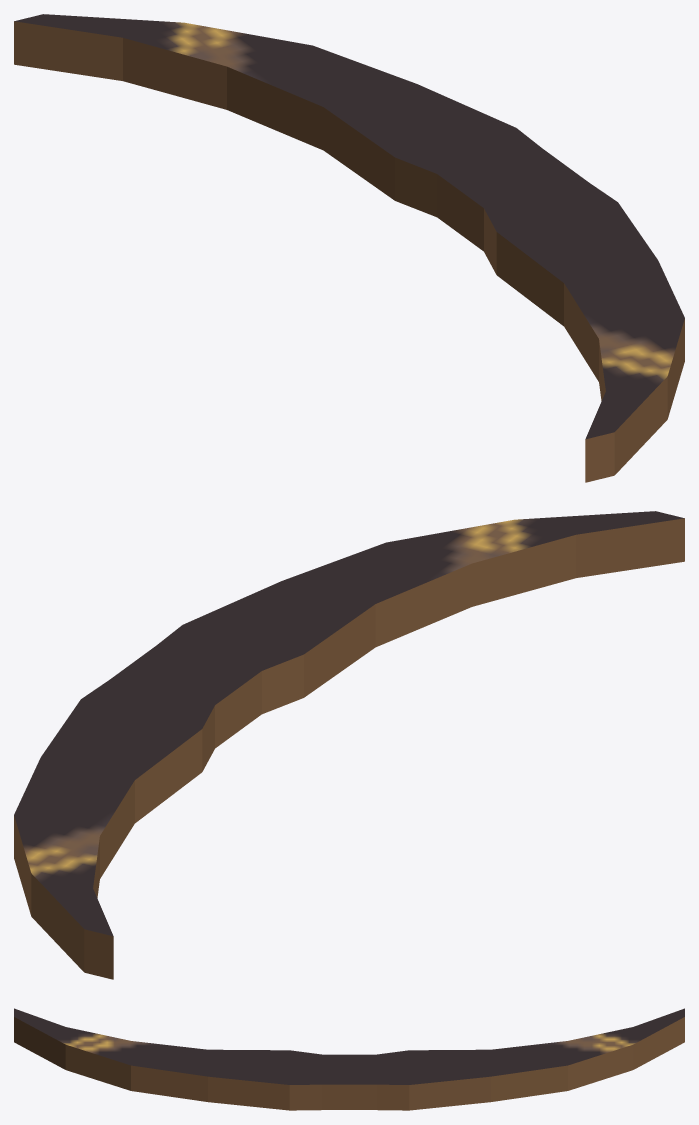
File: pickaxe_head_bench.obj
The picture shows the model from 3 angles, top to bottom: view 1: azimuth 30°, elevation 25°; view 2: azimuth 150°, elevation 25°; view 3: azimuth 270°, elevation 25°; orthographic projection. The views are drawn at different scales.
Visible parts, largest first — view 1: geometry; view 2: geometry; view 3: geometry.
Boxes of the visible parts, bbox=[...] form: geometry: bbox=[14, 14, 684, 482]; geometry: bbox=[14, 511, 684, 979]; geometry: bbox=[14, 1008, 684, 1110].
Size of the model in its own units: 0.2028 by 0.0314 by 0.75.
